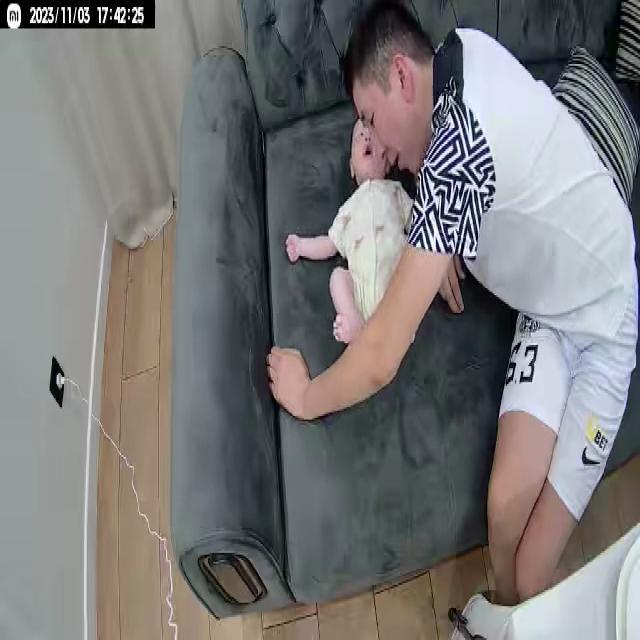baby: (284, 110, 423, 348)
